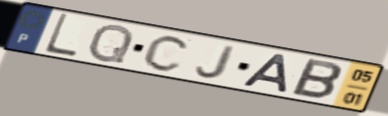A: (238, 52, 290, 94)
B: (288, 57, 344, 102)
C: (141, 34, 193, 73)
J: (193, 43, 239, 80)
L: (41, 12, 79, 59)
Q: (85, 23, 136, 65)
